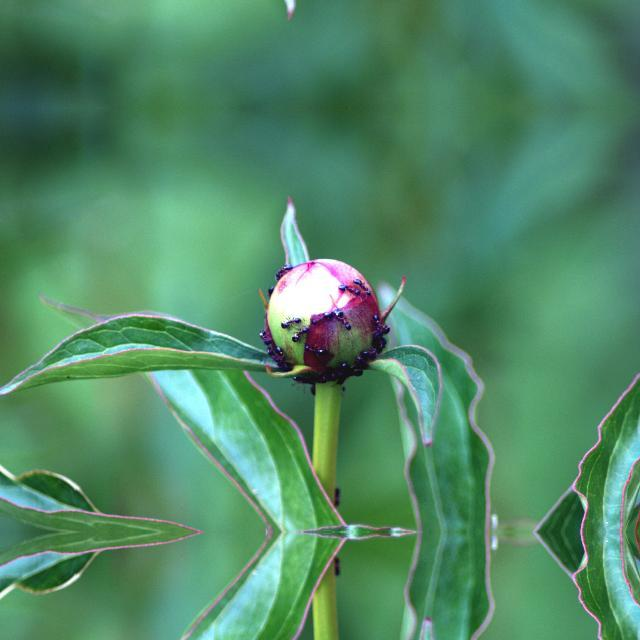Dolichoderus: (308, 305, 344, 325), (333, 306, 357, 330), (336, 282, 366, 298), (288, 324, 312, 344), (351, 276, 374, 296), (278, 312, 304, 328), (302, 342, 331, 356), (275, 260, 297, 278), (370, 310, 384, 338), (274, 339, 288, 367), (260, 328, 274, 354), (268, 282, 276, 296)
